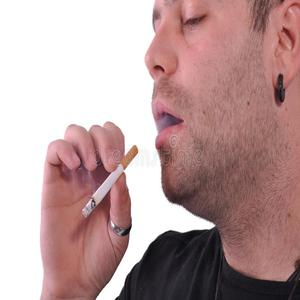cigarette: (79, 146, 138, 217)
